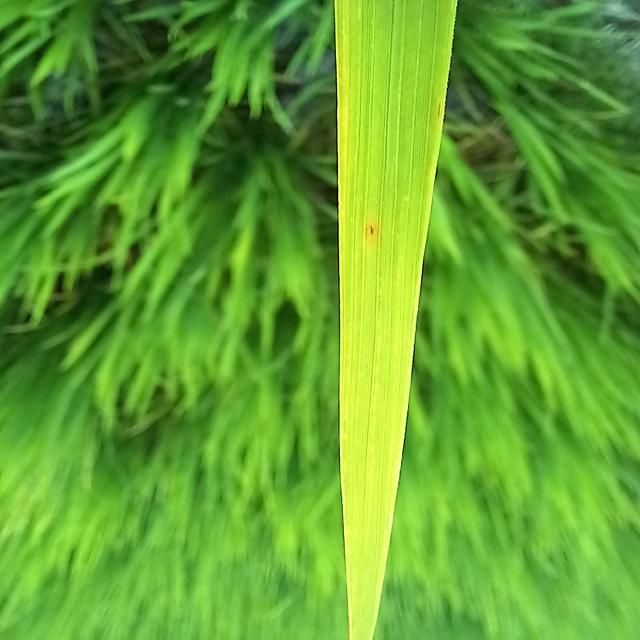Brown_Spot: (360, 213, 380, 245)
